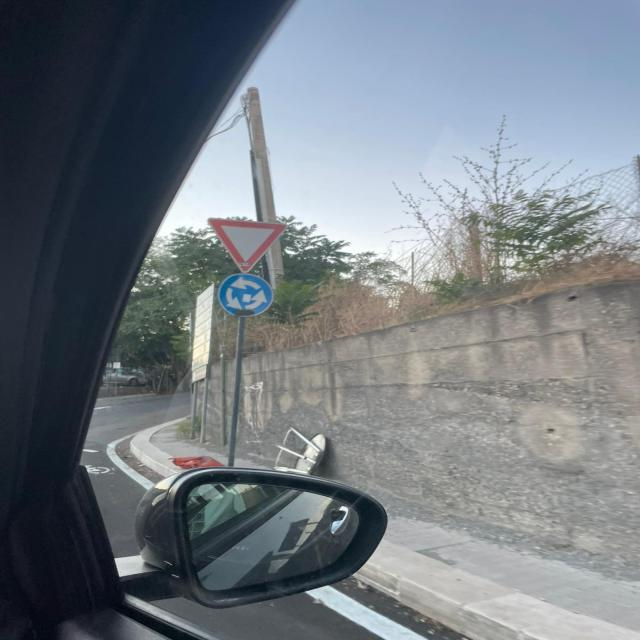prio_give_way: (207, 217, 285, 273)
